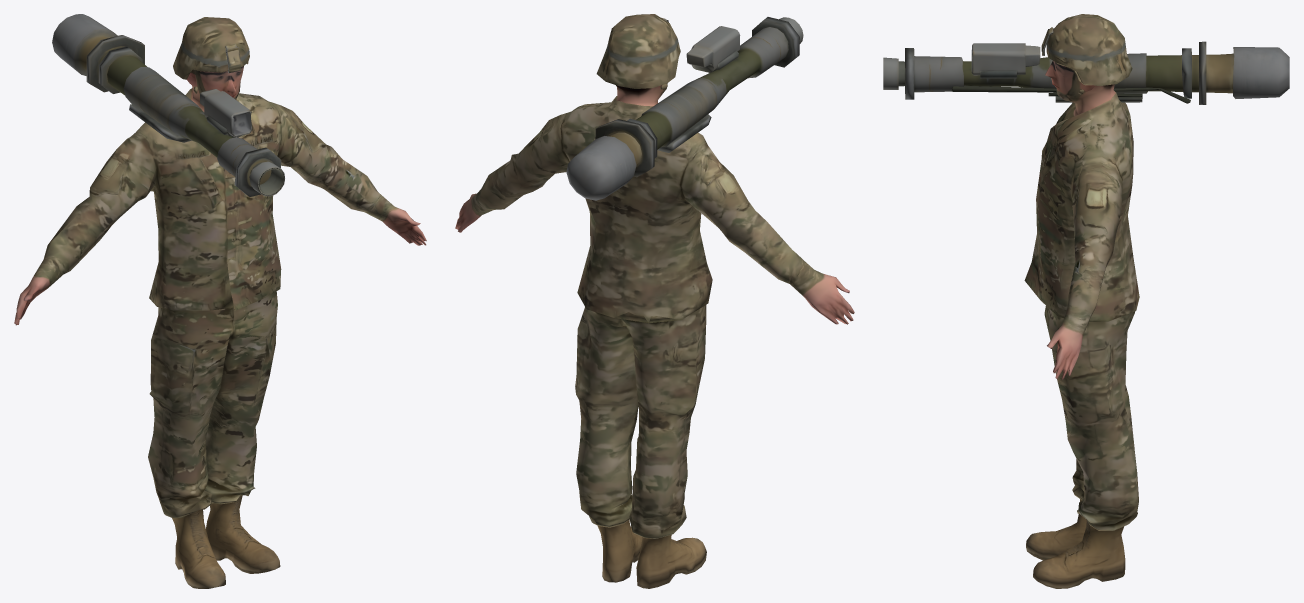
Rendered from us-javelin-team.glb.
3 views of the same model, side by side, from view 1: azimuth 30°, elevation 25°; view 2: azimuth 150°, elevation 25°; view 3: azimuth 270°, elevation 25° (orthographic).
Parts seen in each view (by area): view 1: geometry_0; view 2: geometry_0; view 3: geometry_0.
Part boxes in pixels (x1,y1,x2,y2): geometry_0: (14, 14, 426, 588); geometry_0: (455, 14, 854, 588); geometry_0: (883, 14, 1289, 588).
Bounding box in the file's own units: 0.7305 × 0.9507 × 0.6377.
Materials: 1 (1 with a texture image).
